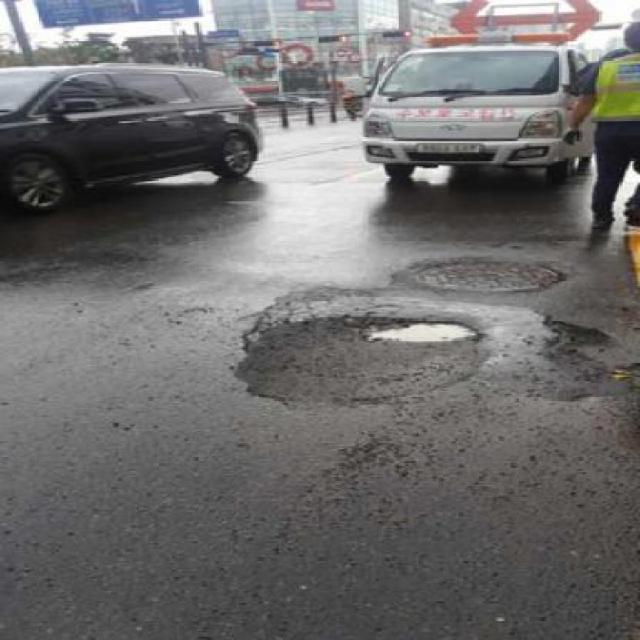pothole: (397, 254, 574, 297), (364, 313, 481, 351)
